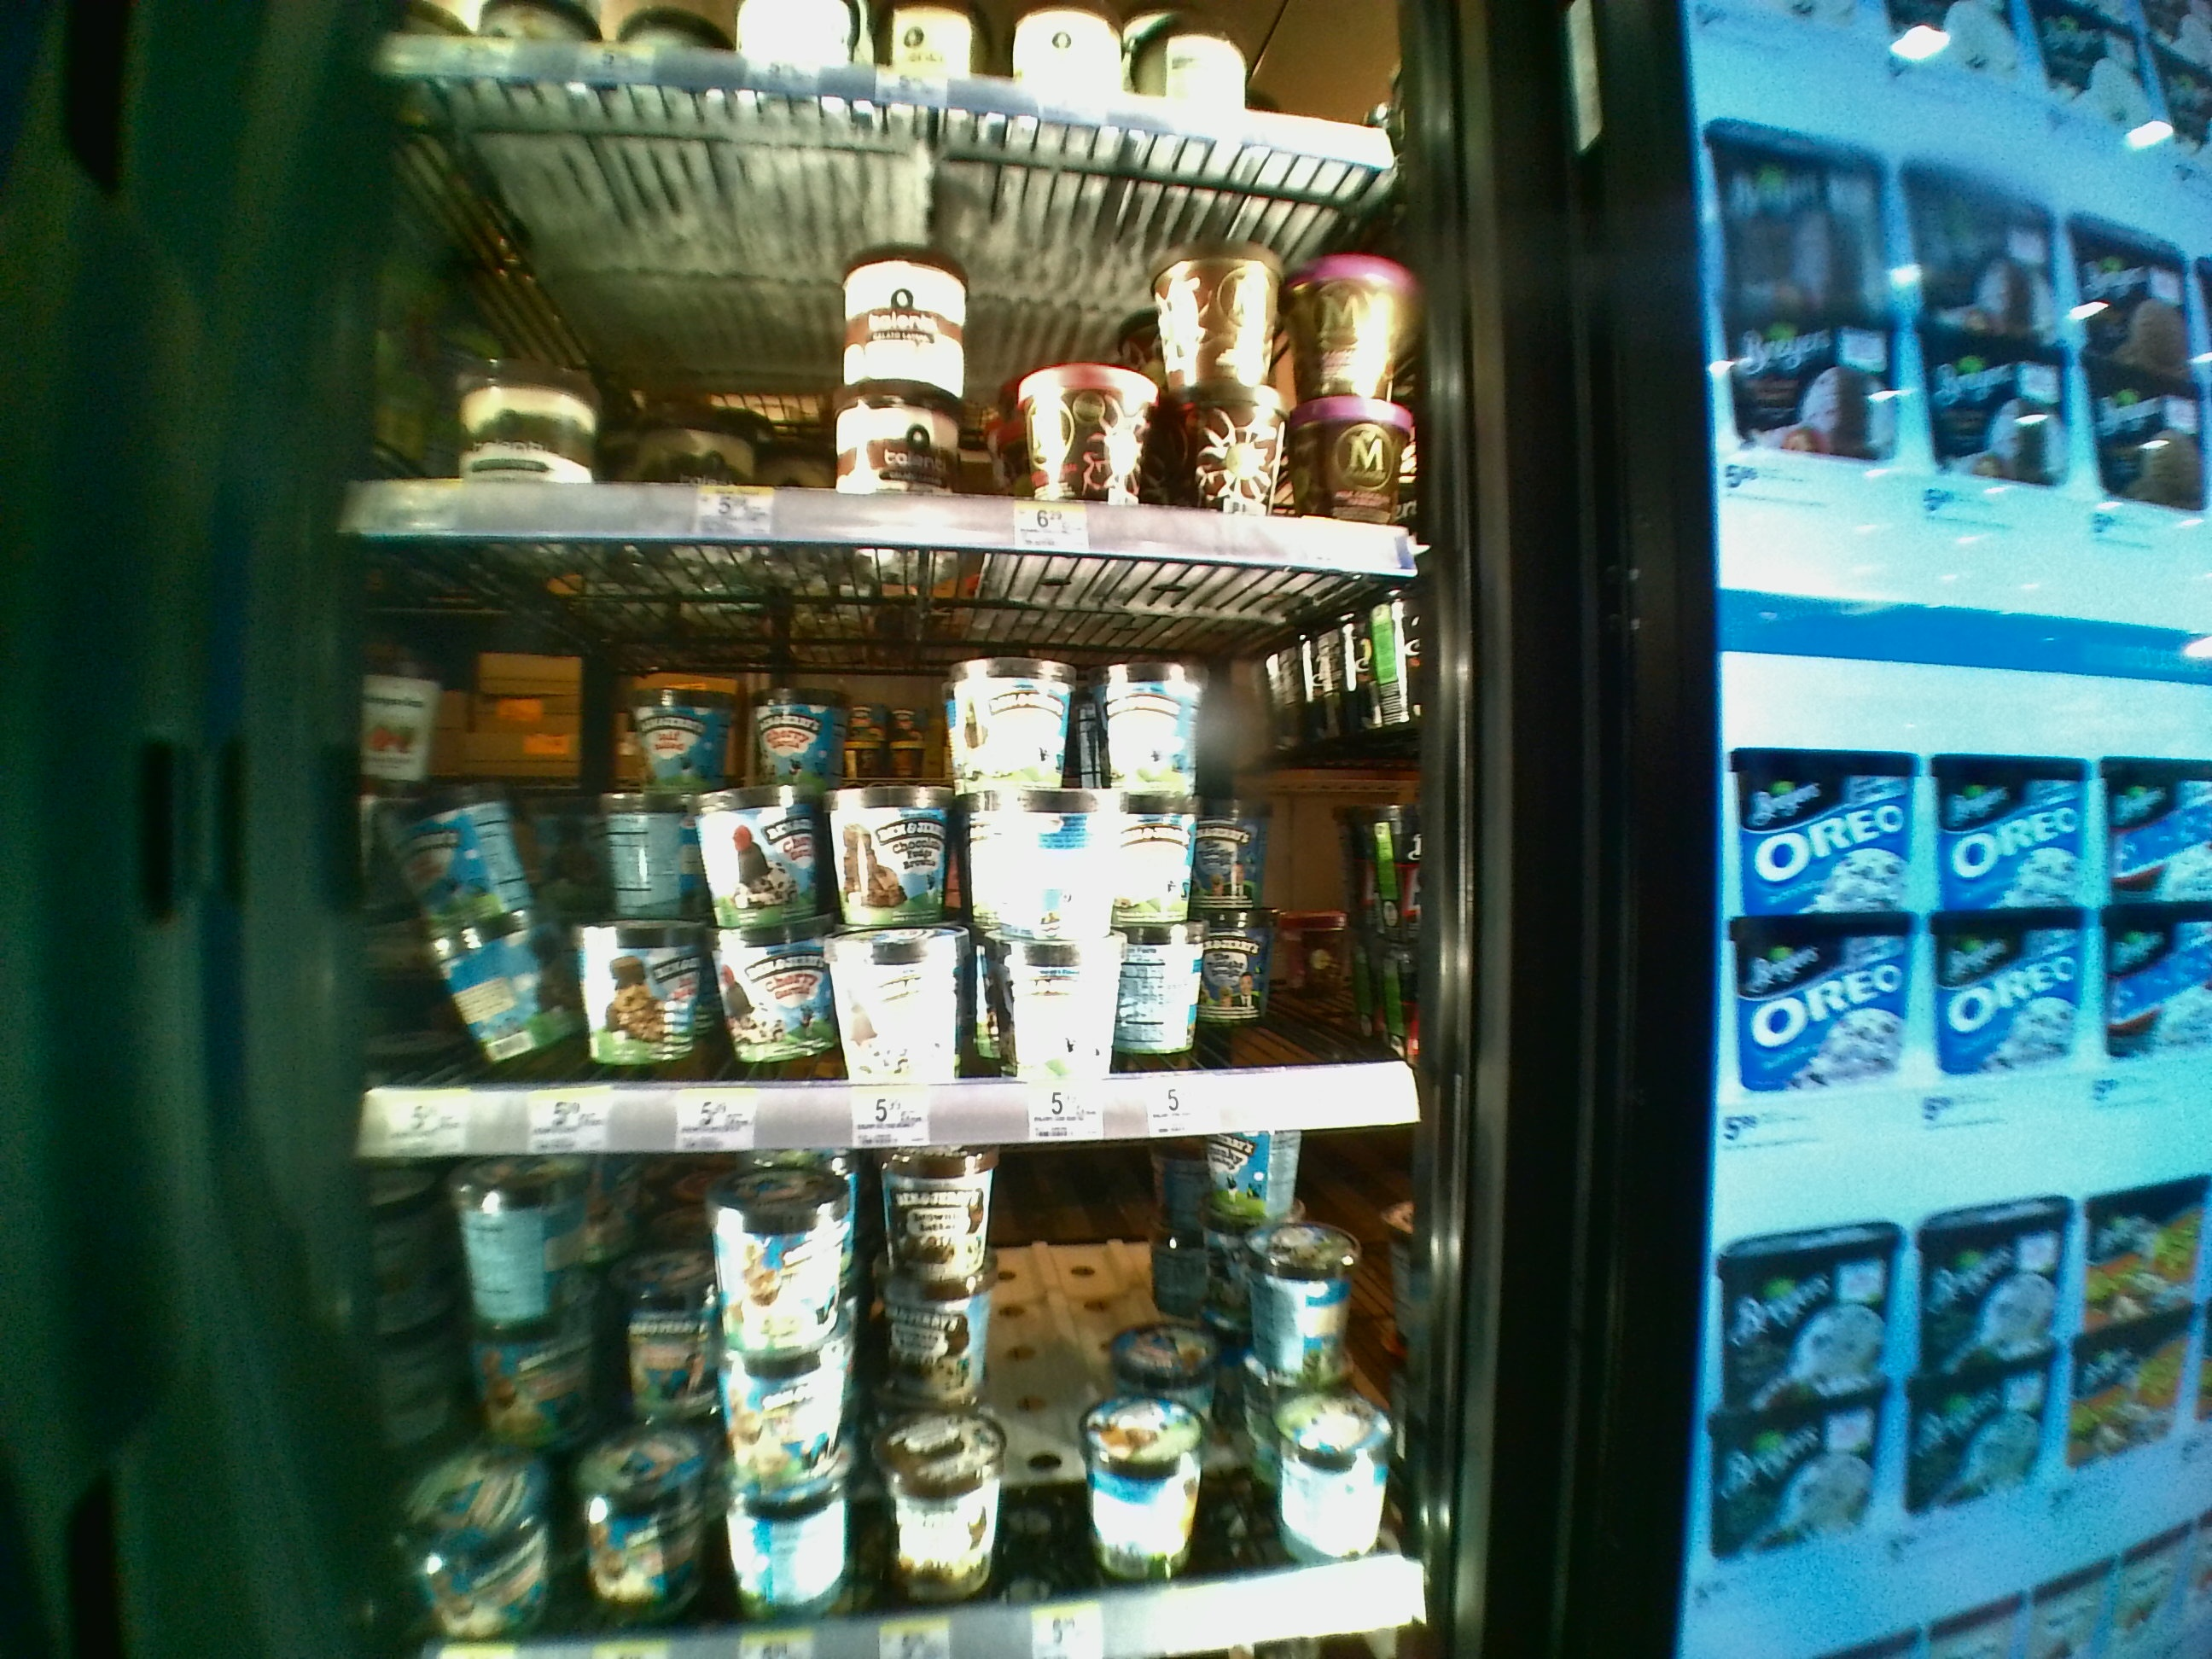shelf: (341, 561, 1420, 1145), (334, 82, 1423, 545)
